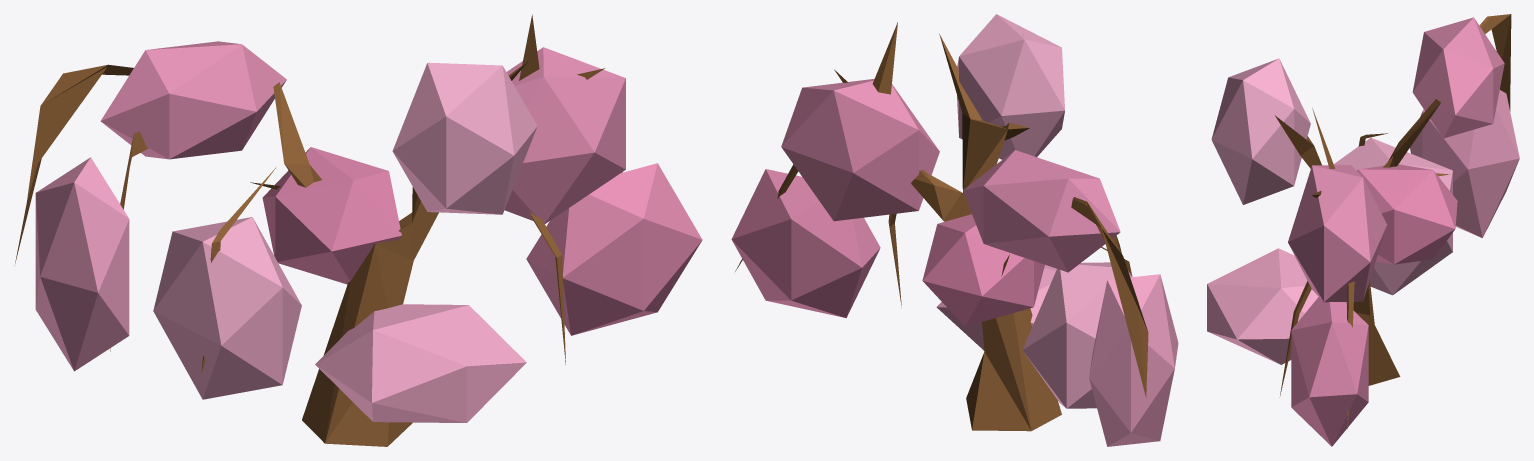
Rendered from cherry_weeping_bloom_far.glb.
The picture shows the model from 3 angles, left to right: view 1: azimuth 30°, elevation 25°; view 2: azimuth 150°, elevation 25°; view 3: azimuth 270°, elevation 25°; orthographic projection. The views are drawn at different scales.
Visible parts, largest first — view 1: cherry_weeping_bloom_far; view 2: cherry_weeping_bloom_far; view 3: cherry_weeping_bloom_far.
Part boxes in pixels (x1,y1,x2,y2): cherry_weeping_bloom_far: [14, 14, 702, 446]; cherry_weeping_bloom_far: [731, 14, 1178, 446]; cherry_weeping_bloom_far: [1207, 14, 1519, 446].
Bounding box in the file's own units: 8.98 × 5.87 × 5.08.
